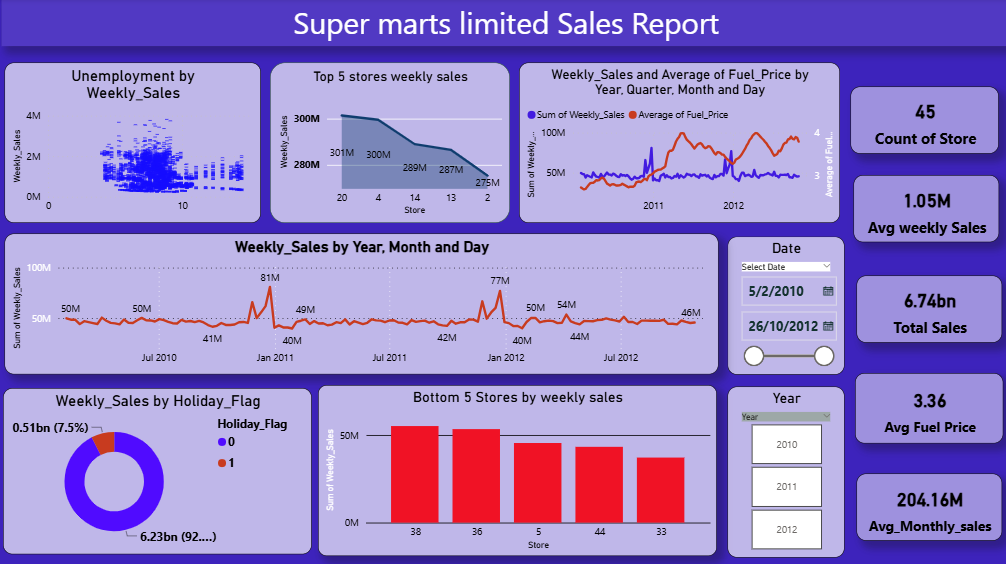

The page's visual inventory and layout, read from the dashboard file:
{"tool":"powerbi","page":{"name":"Dashboard","canvas":[1280,720],"ordinal":0},"visuals":[{"type":"textbox","box":[9.4,0,1270.6,60.4],"z":0},{"type":"card","fields":{"Values":["Sum(Supermarts DataSet.Weekly_Sales)"]},"box":[1085.5,349.3,183.1,85],"z":1000},{"type":"card","fields":{"Values":["Avg(Supermarts DataSet.Weekly_Sales)"]},"box":[1081.8,222.8,183.1,85],"z":2000},{"type":"card","fields":{"Values":["Supermarts DataSet.Average_Monthly_sales"]},"box":[1085.5,598.5,183.1,85],"z":3000},{"type":"card","fields":{"Values":["Avg(Supermarts DataSet.Fuel_Price)"]},"box":[1083.7,472,186.9,88.7],"z":4000},{"type":"card","fields":{"Values":["Count(Supermarts DataSet.Store)"]},"box":[1078,111.4,186.9,85],"z":5000},{"type":"slicer","title":"Date","fields":{"Values":["Supermarts DataSet.Date"]},"box":[923.2,300.2,147.3,173.7],"z":6000},{"type":"lineChart","title":"Weekly_Sales by Year, Month and Day","fields":{"Category":["Supermarts DataSet.Date.Variation.Date Hierarchy.Year","Supermarts DataSet.Date.Variation.Date Hierarchy.Month","Supermarts DataSet.Date.Variation.Date Hierarchy.Day"],"Y":["Sum(Supermarts DataSet.Weekly_Sales)"]},"box":[13.2,296.4,898.6,177.5],"z":7000},{"type":"stackedAreaChart","title":"Top 5 stores weekly sales","fields":{"Category":["Supermarts DataSet.Store"],"Y":["Sum(Supermarts DataSet.Weekly_Sales)"]},"box":[347.4,81.2,302.1,202],"z":8000},{"type":"clusteredColumnChart","title":"Bottom 5 Stores by weekly sales","fields":{"Category":["Supermarts DataSet.Store"],"Y":["Sum(Supermarts DataSet.Weekly_Sales)"]},"box":[407.8,487.1,502.2,215.2],"z":9000},{"type":"slicer","title":"Year ","fields":{"Values":["Supermarts DataSet.Date.Variation.Date Hierarchy.Year"]},"box":[923.2,489,147.3,215.2],"z":10000},{"type":"donutChart","title":"Weekly_Sales by Holiday_Flag","fields":{"Category":["Supermarts DataSet.Holiday_Flag"],"Y":["Sum(Supermarts DataSet.Weekly_Sales)"]},"box":[11.3,490.9,388.9,209.6],"z":11000},{"type":"scatterChart","title":"Unemployment by Weekly_Sales","fields":{"X":["Sum(Supermarts DataSet.Unemployment)"],"Y":["Supermarts DataSet.Weekly_Sales"]},"box":[13.2,81.2,322.8,202],"z":12000},{"type":"lineChart","title":"Weekly_Sales and Average of Fuel_Price by Year, Quarter, Month and Day","fields":{"Y":["Sum(Supermarts DataSet.Weekly_Sales)"],"Category":["Supermarts DataSet.Date.Variation.Date Hierarchy.Year","Supermarts DataSet.Date.Variation.Date Hierarchy.Quarter","Supermarts DataSet.Date.Variation.Date Hierarchy.Month","Supermarts DataSet.Date.Variation.Date Hierarchy.Day"],"Y2":["Avg(Supermarts DataSet.Fuel_Price)"]},"box":[660.8,81.2,404,202],"z":13000}]}

Visuals, with their boxes in screenshot pixels (x1, y1, x2, y2), scaled from the page's 1280x720 canvas onto the 1006x564 screenshot:
textbox: (7, 0, 1005, 47)
card - Sum(Supermarts DataSet.Weekly_Sales): (853, 274, 997, 340)
card - Avg(Supermarts DataSet.Weekly_Sales): (850, 175, 994, 241)
card - Supermarts DataSet.Average_Monthly_sales: (853, 469, 997, 535)
card - Avg(Supermarts DataSet.Fuel_Price): (852, 370, 999, 439)
card - Count(Supermarts DataSet.Store): (847, 87, 994, 154)
"Date" slicer: (726, 235, 841, 371)
"Weekly_Sales by Year, Month and Day" lineChart: (10, 232, 717, 371)
"Top 5 stores weekly sales" stackedAreaChart: (273, 64, 510, 222)
"Bottom 5 Stores by weekly sales" clusteredColumnChart: (321, 382, 715, 550)
"Year " slicer: (726, 383, 841, 552)
"Weekly_Sales by Holiday_Flag" donutChart: (9, 385, 315, 549)
"Unemployment by Weekly_Sales" scatterChart: (10, 64, 264, 222)
"Weekly_Sales and Average of Fuel_Price by Year, Quarter, Month and Day" lineChart: (519, 64, 837, 222)
